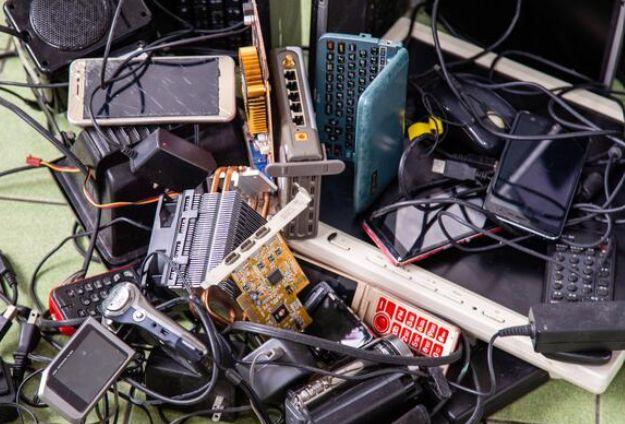electronic: (237, 6, 344, 236), (310, 1, 416, 194), (424, 0, 623, 92), (206, 184, 317, 337), (121, 283, 242, 414), (142, 186, 268, 304), (482, 112, 592, 237), (531, 211, 619, 365), (63, 53, 238, 127), (366, 183, 500, 266), (36, 315, 136, 420), (436, 346, 547, 423), (415, 70, 511, 153), (289, 368, 432, 423), (291, 281, 381, 366), (47, 265, 146, 334), (309, 1, 413, 60), (0, 275, 40, 419), (144, 192, 187, 287), (73, 124, 145, 171), (211, 166, 267, 222), (0, 250, 20, 340)
